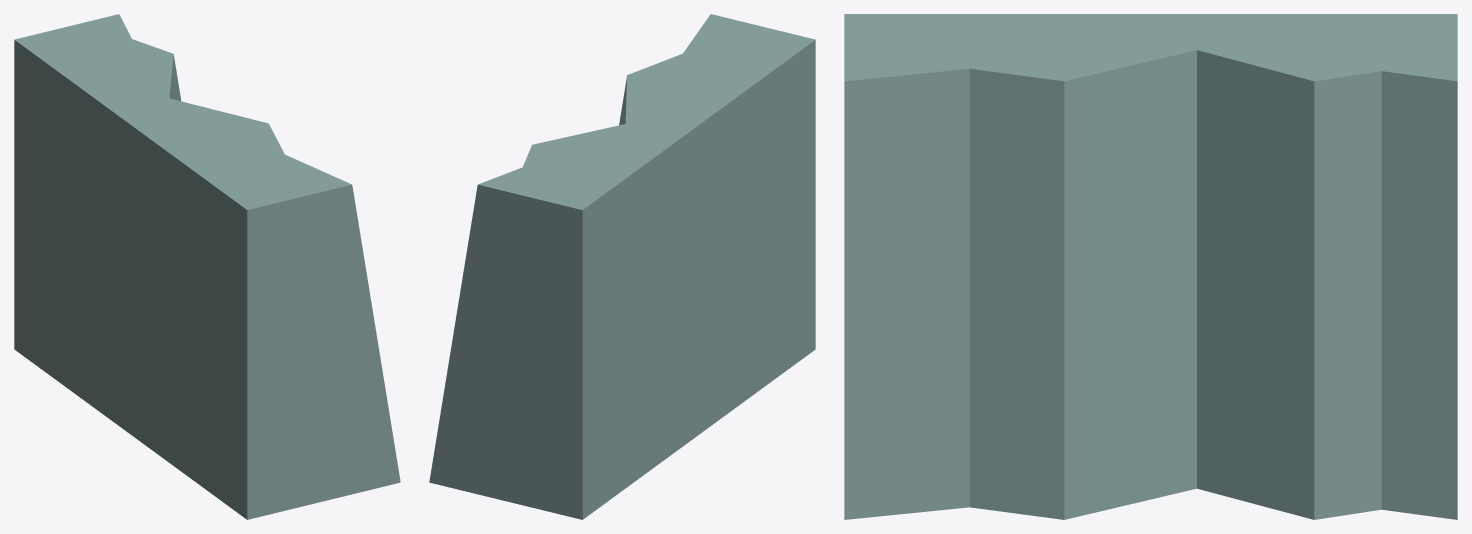
File: naturePack_119.fbx
3 renders of one model, left to right at view 1: azimuth 30°, elevation 25°; view 2: azimuth 150°, elevation 25°; view 3: azimuth 270°, elevation 25°, orthographic. The views are drawn at different scales.
Visible parts, largest first — view 1: naturePack_119; view 2: naturePack_119; view 3: naturePack_119.
Part boxes in pixels (x1,y1,x2,y2): naturePack_119: [14, 14, 400, 519]; naturePack_119: [429, 14, 815, 519]; naturePack_119: [844, 14, 1457, 519].
Size of the model in its own units: 114 by 220 by 300.
